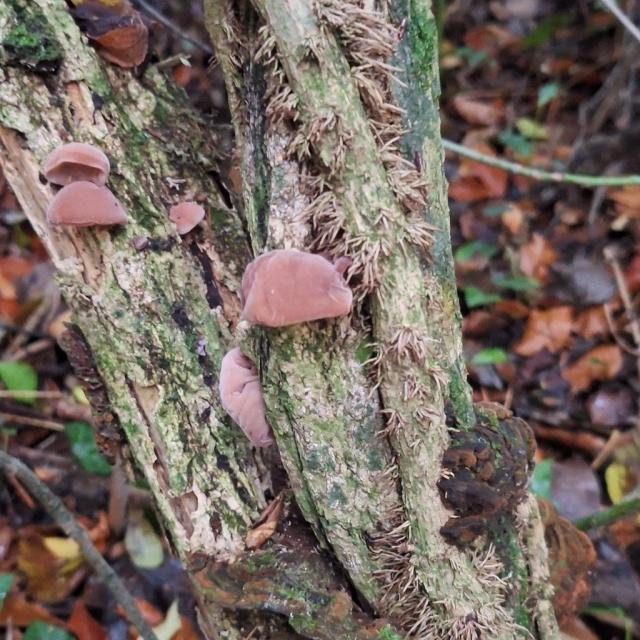Matang: (238, 248, 356, 326), (217, 342, 282, 469), (46, 177, 132, 236), (40, 140, 111, 188), (169, 200, 207, 234)
